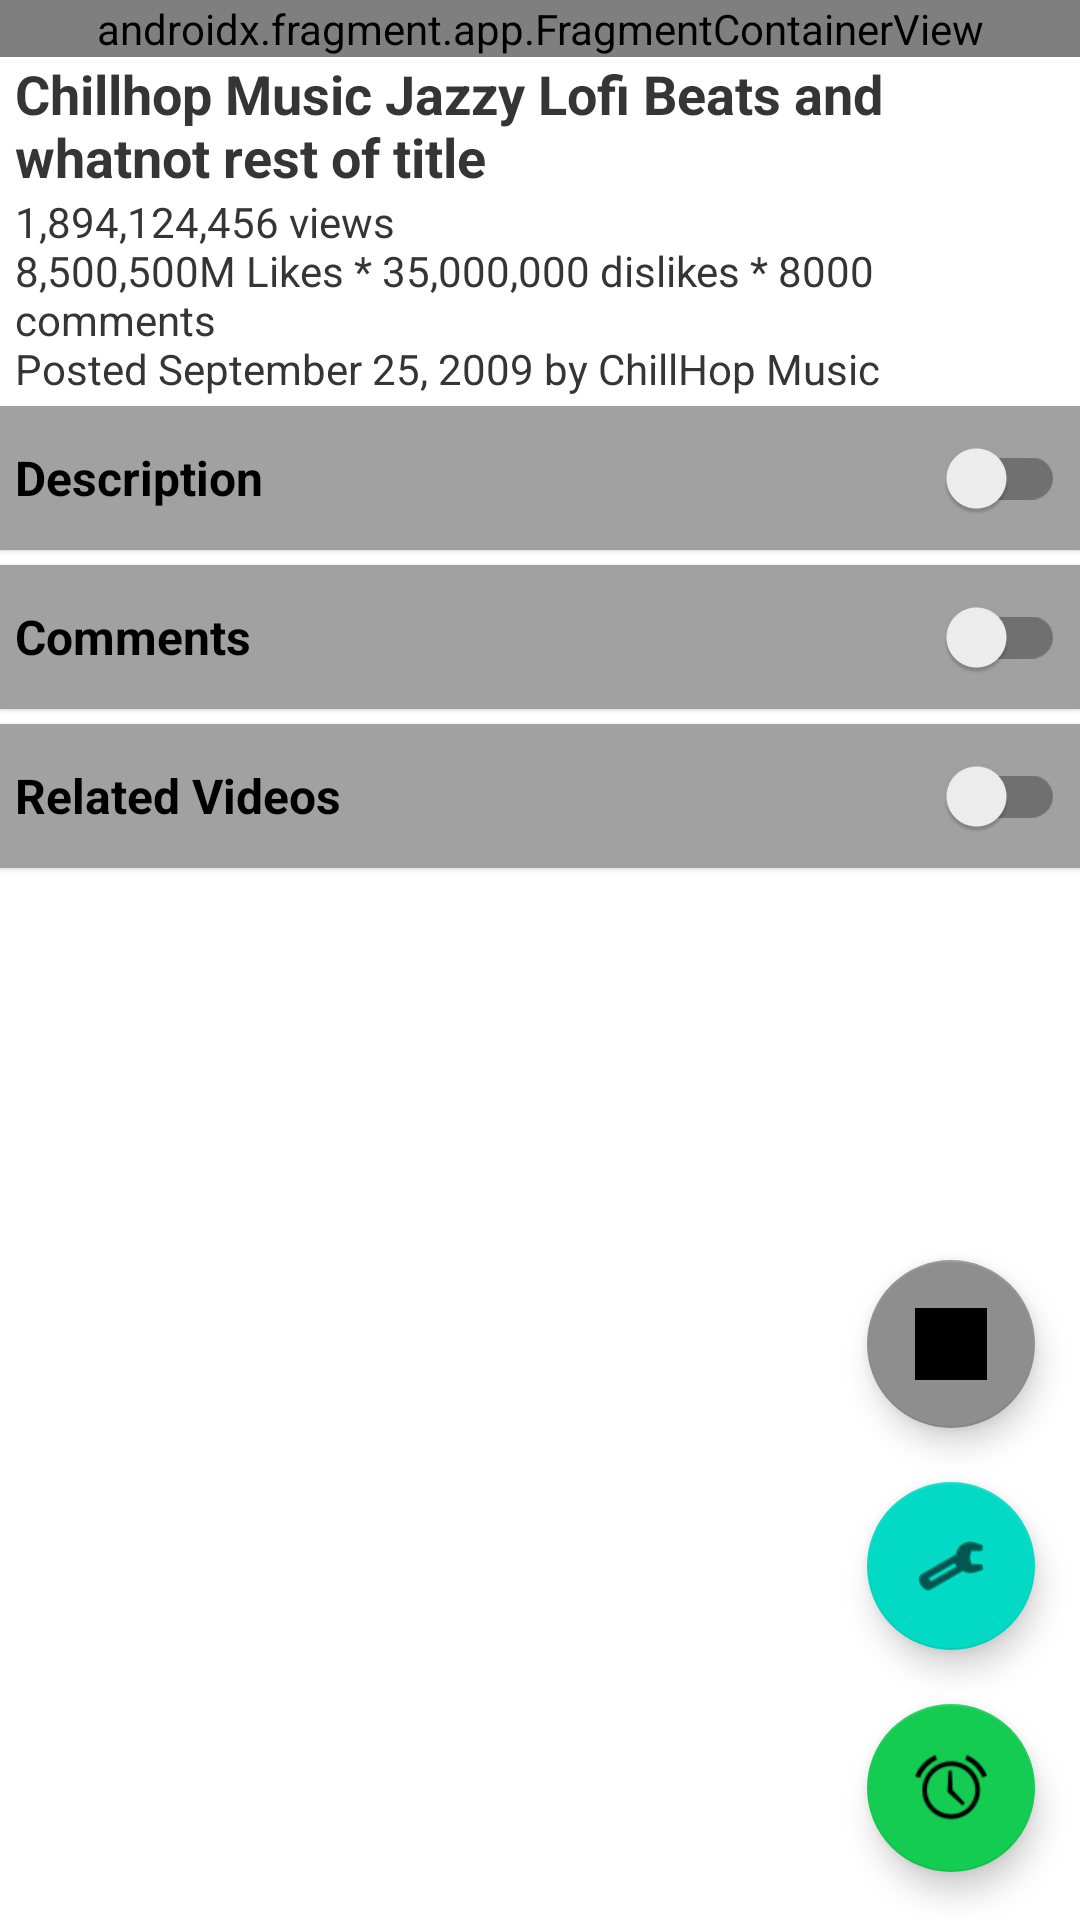

Icons on this 1080px x 1920px Android screen, each with the point to tap as [x,y]:
blackscreen turnon: [951,1344]
Preferences button: [951,1566]
Set timer: [951,1788]
